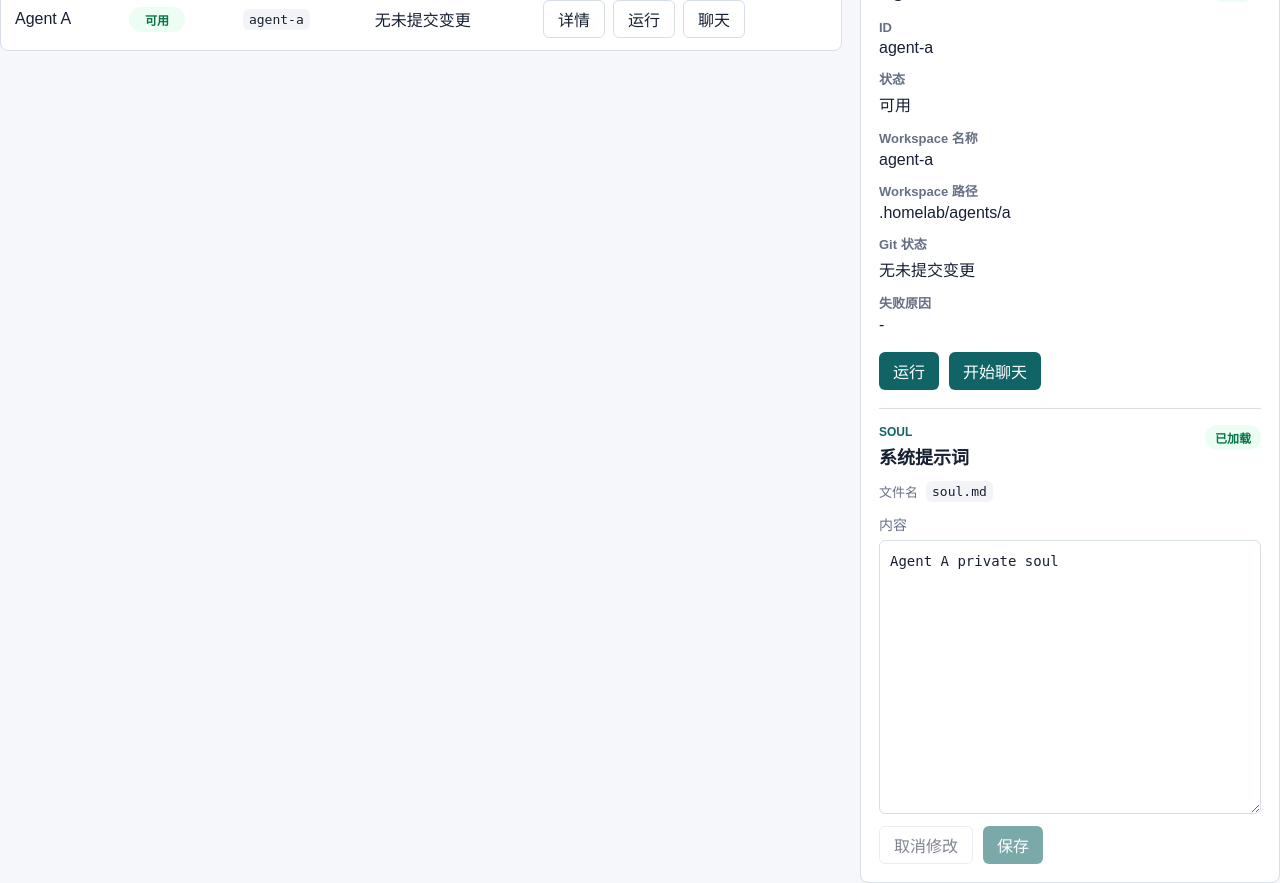
Test: AgentsPage › saves edited soul content through the dedicated endpoint
(page scrolled)
Replace the text in the text box named "Soul 内容" with "Updated soul" at (1070, 677), box [879,540,1261,814]
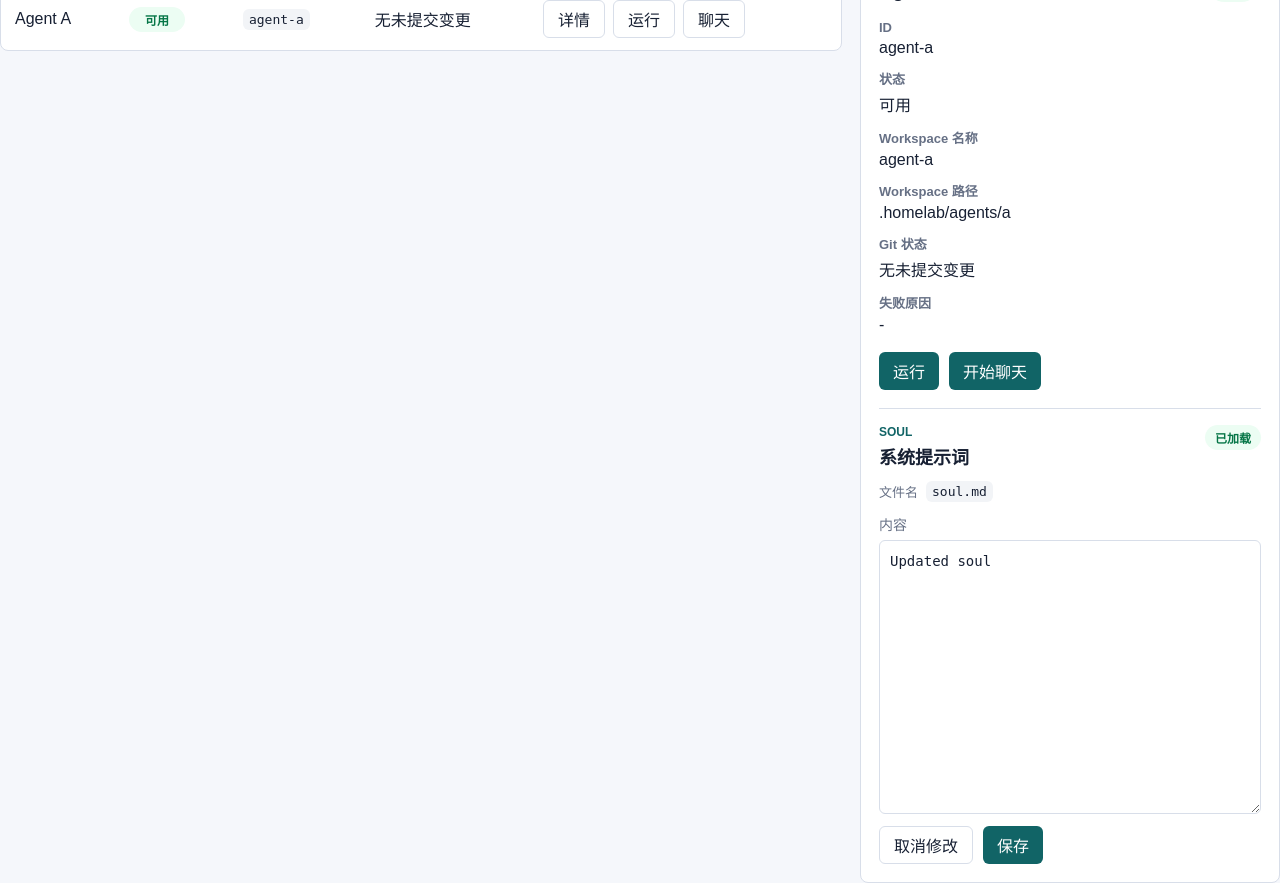
Result: the button "保存" is enabled
Click the button "保存" at (1013, 845), box [983,826,1043,864]
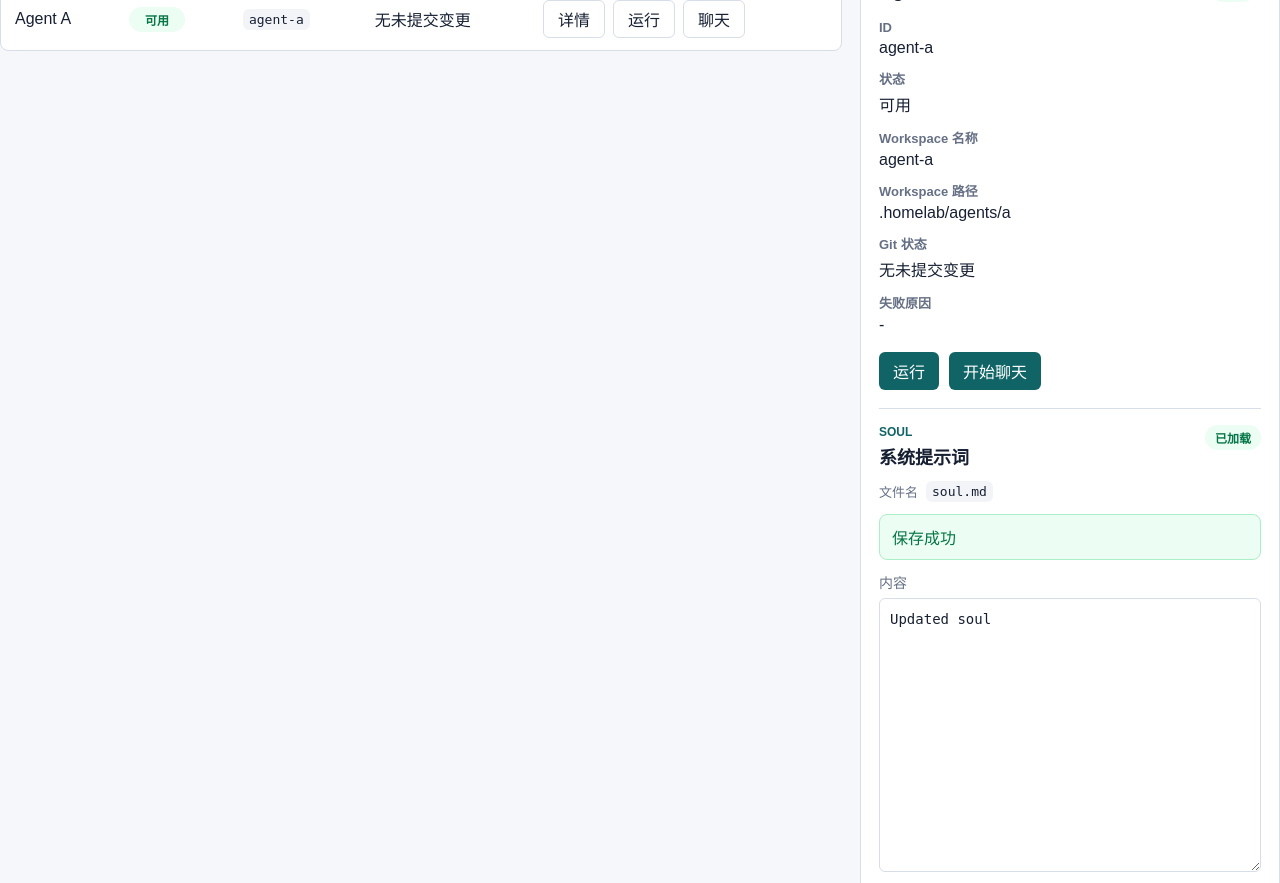
Result: the text "保存成功" is shown at [879,514,1261,560]
